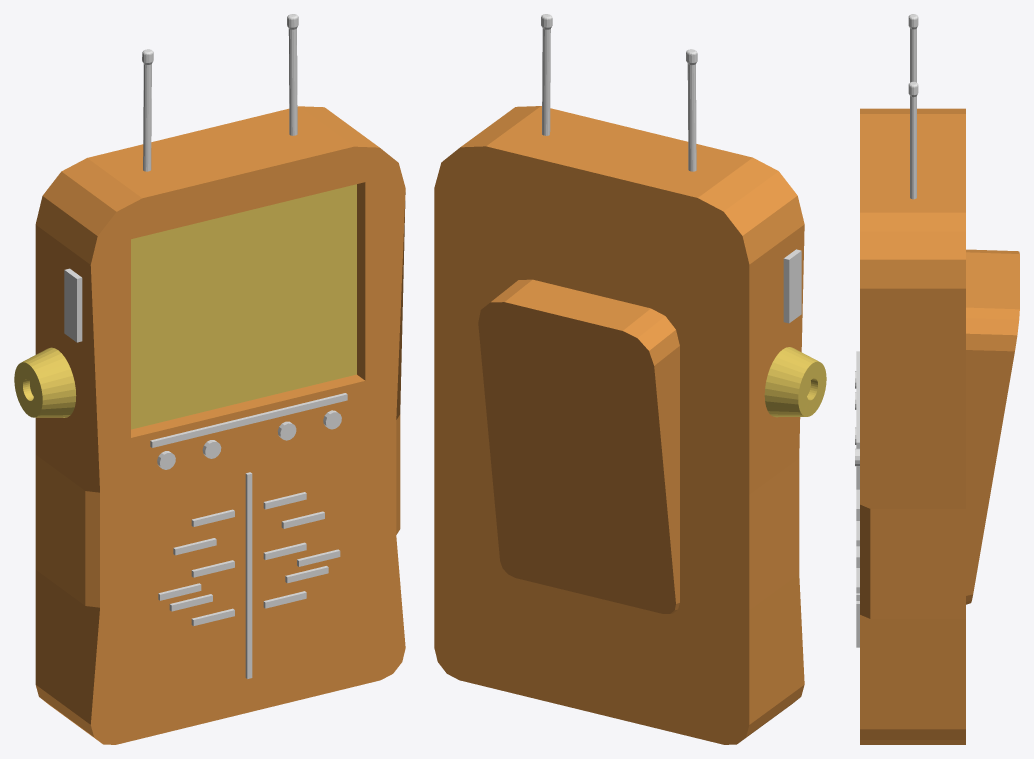
Rendered from Translator.fbx.
3 views of the same model, side by side, from view 1: azimuth 30°, elevation 25°; view 2: azimuth 150°, elevation 25°; view 3: azimuth 270°, elevation 25° (orthographic). The views are drawn at different scales.
Parts seen in each view (by area): view 1: Cube, Cylinder.004, Cylinder, Cube.003, Cube.004, Cube.002, Cube.006, Cube.008, Cube.010, Cube.007, Cube.005, Cube.009; view 2: Cube, Cylinder.004, Cylinder, Cube.002; view 3: Cube, Cylinder, Cube.003, Cube.004.
Boxes of the visible parts, <box> form: Cube: <box>35,106,405,744</box>; Cylinder.004: <box>14,347,76,417</box>; Cylinder: <box>142,14,298,171</box>; Cube.003: <box>150,393,347,447</box>; Cube.004: <box>245,472,252,678</box>; Cube.002: <box>64,268,82,342</box>; Cube.006: <box>173,511,324,555</box>; Cube.008: <box>158,549,340,600</box>; Cube.010: <box>191,591,306,626</box>; Cube.007: <box>191,542,306,577</box>; Cube.005: <box>191,492,306,526</box>; Cube.009: <box>169,566,328,611</box>; Cube: <box>434,106,804,744</box>; Cylinder.004: <box>764,347,826,417</box>; Cylinder: <box>541,14,697,171</box>; Cube.002: <box>783,249,801,323</box>; Cube: <box>860,108,1019,744</box>; Cylinder: <box>908,14,918,199</box>; Cube.003: <box>856,351,859,448</box>; Cube.004: <box>856,466,859,647</box>.
Size of the model in its own units: 251 by 451 by 107.
